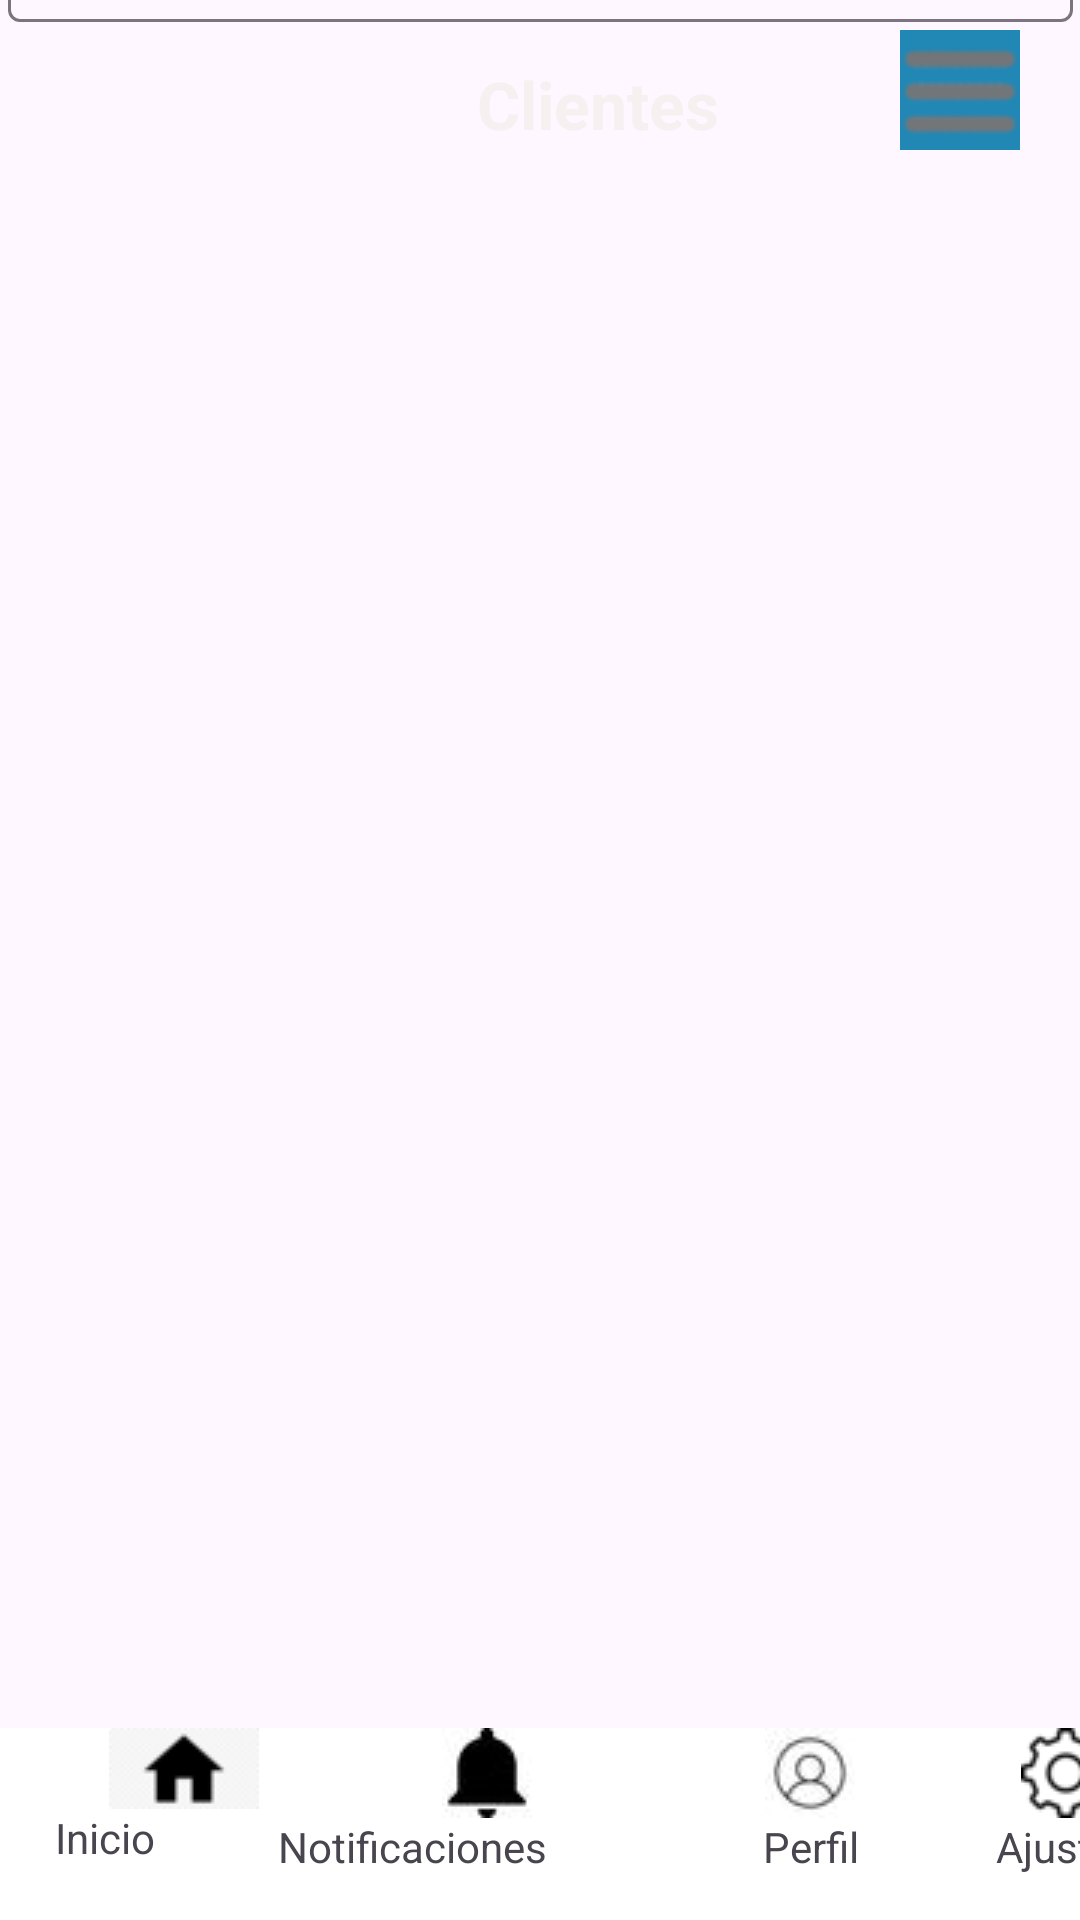

Screen size 1080w x 1920h. Icon name, then its center in pixels as (x=x, y=y):
menu: (x=960, y=90)
